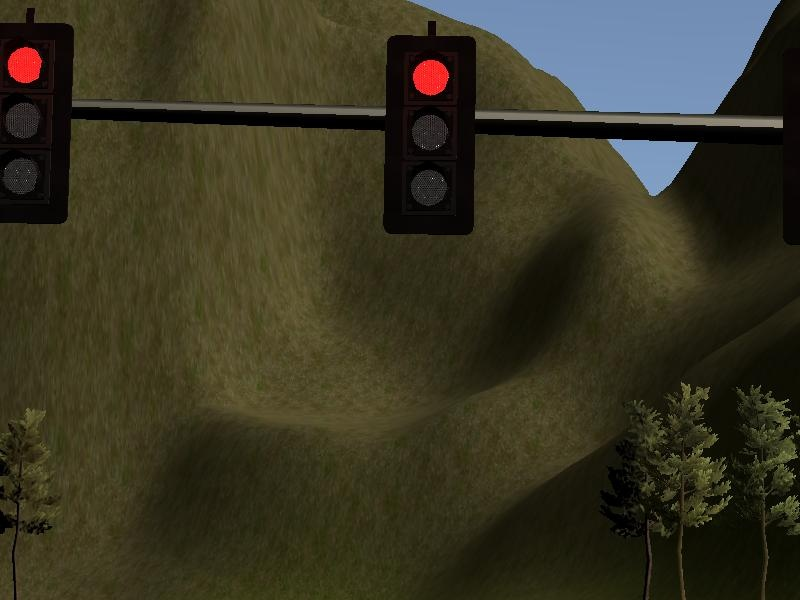red: (381, 28, 478, 246), (1, 23, 76, 224)
